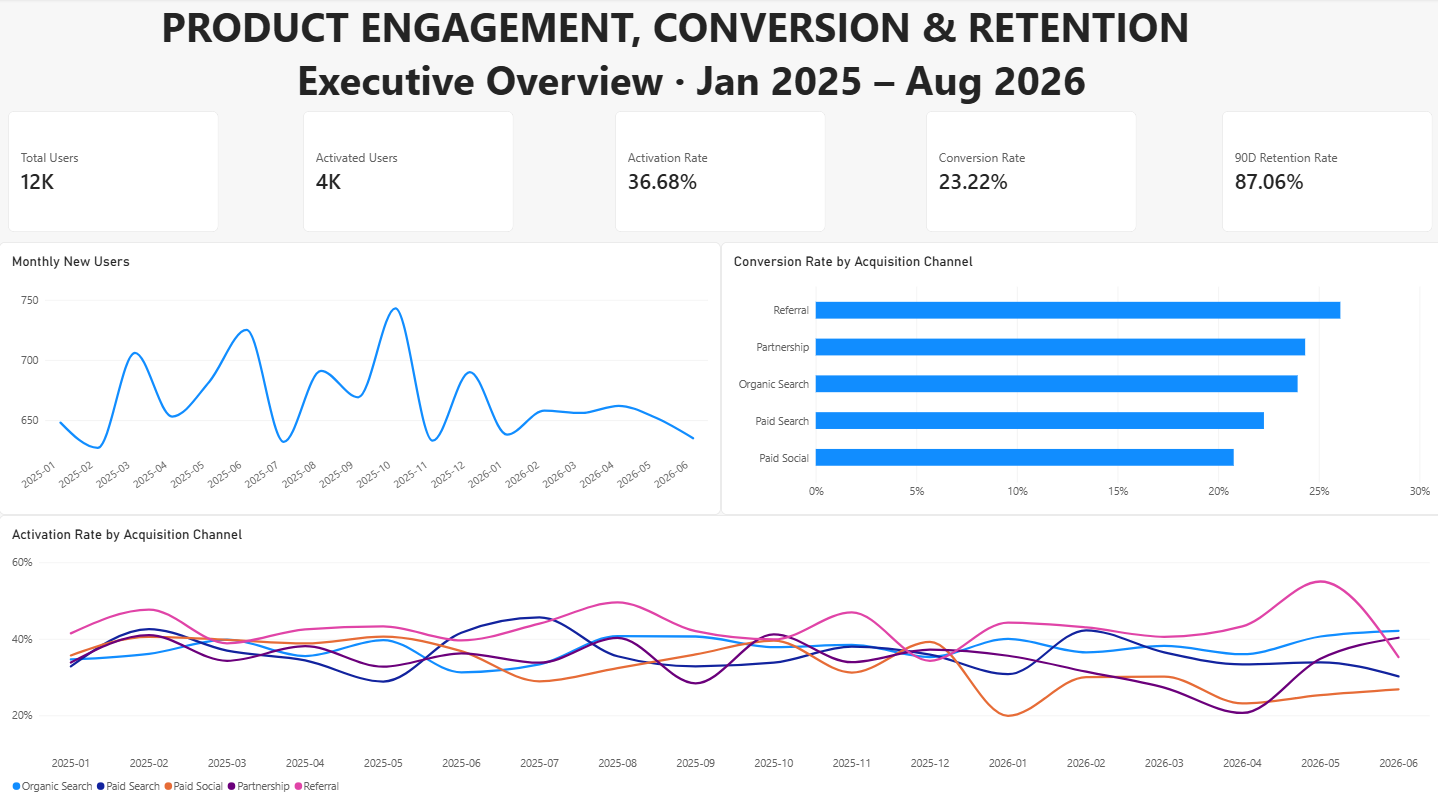

The page's visual inventory and layout, read from the dashboard file:
{"tool":"powerbi","page":{"name":"Executive Overview","canvas":[1920,1080],"ordinal":0},"visuals":[{"type":"cardVisual","fields":{"Data":["User Metrics.Total Users"]},"box":[11.7,150.3,280.1,161.9],"z":0},{"type":"cardVisual","fields":{"Data":["User Metrics.Activated Users"]},"box":[404.1,150.3,280.1,161.9],"z":1},{"type":"cardVisual","fields":{"Data":["User Metrics.Activation Rate"]},"box":[819.9,150.3,280.1,161.9],"z":2},{"type":"cardVisual","fields":{"Data":["User Metrics.Conversion Rate"]},"box":[1232.8,150.3,280.1,161.9],"z":3},{"type":"cardVisual","fields":{"Data":["User Metrics.90D Retention Rate"]},"box":[1626.7,150.3,280.1,161.9],"z":4},{"type":"lineChart","title":"Activation Rate by Acquisition Channel","fields":{"Y":["User Metrics.Activation Rate"],"Series":["User Metrics.acquisition_channel"],"Category":["Date.Year Month"]},"box":[0,687.2,1920,392.5],"z":5},{"type":"clusteredBarChart","title":"Conversion Rate by Acquisition Channel","fields":{"Category":["User Metrics.acquisition_channel"],"Y":["User Metrics.Conversion Rate"]},"box":[960,323.9,960,363.3],"z":6},{"type":"lineChart","title":"Monthly New Users","fields":{"Category":["Date.Year Month"],"Y":["User Metrics.Total Users"]},"box":[0,323.9,960,363],"z":7},{"type":"textbox","box":[960,697,947,363],"z":8},{"type":"textbox","box":[215.9,0,1440,150.3],"z":9}]}

Visuals, with their boxes in screenshot pixels (x1, y1, x2, y2), scaled from the page's 1920x1080 canvas onto the 1438x803 screenshot:
cardVisual - User Metrics.Total Users: 9 112 219 232
cardVisual - User Metrics.Activated Users: 303 112 512 232
cardVisual - User Metrics.Activation Rate: 614 112 824 232
cardVisual - User Metrics.Conversion Rate: 923 112 1133 232
cardVisual - User Metrics.90D Retention Rate: 1218 112 1428 232
"Activation Rate by Acquisition Channel" lineChart: 0 511 1437 802
"Conversion Rate by Acquisition Channel" clusteredBarChart: 719 241 1437 511
"Monthly New Users" lineChart: 0 241 719 511
textbox: 719 518 1428 788
textbox: 162 0 1240 112
